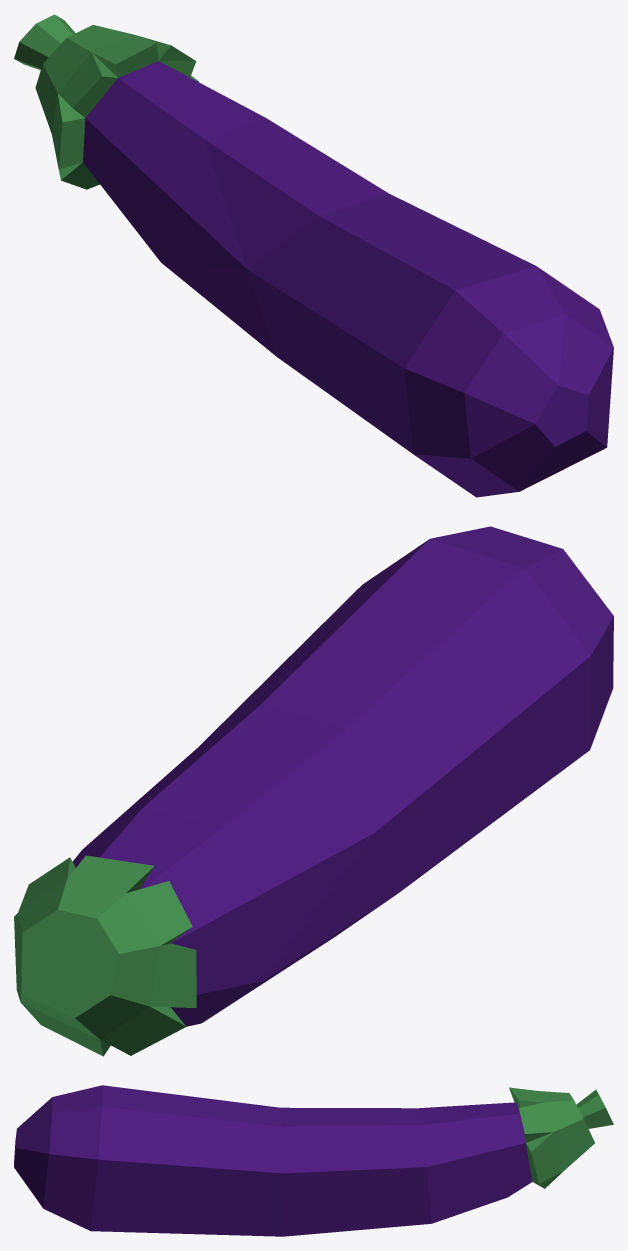
File: Eggplant_Harvest.fbx
The picture shows the model from 3 angles, top to bottom: view 1: azimuth 30°, elevation 25°; view 2: azimuth 150°, elevation 25°; view 3: azimuth 270°, elevation 25°; orthographic projection. The views are drawn at different scales.
Parts seen in each view (by area): view 1: Eggplant_Harvest; view 2: Eggplant_Harvest; view 3: Eggplant_Harvest.
Boxes of the visible parts, x1=… form: Eggplant_Harvest: x1=14, y1=14, x2=613, y2=497; Eggplant_Harvest: x1=14, y1=526, x2=613, y2=1056; Eggplant_Harvest: x1=14, y1=1085, x2=613, y2=1236.
Bounding box in the file's own units: 8.53 × 8.83 × 35.58.
